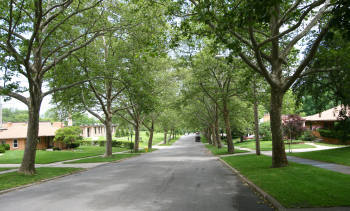tree: (186, 1, 350, 171)
